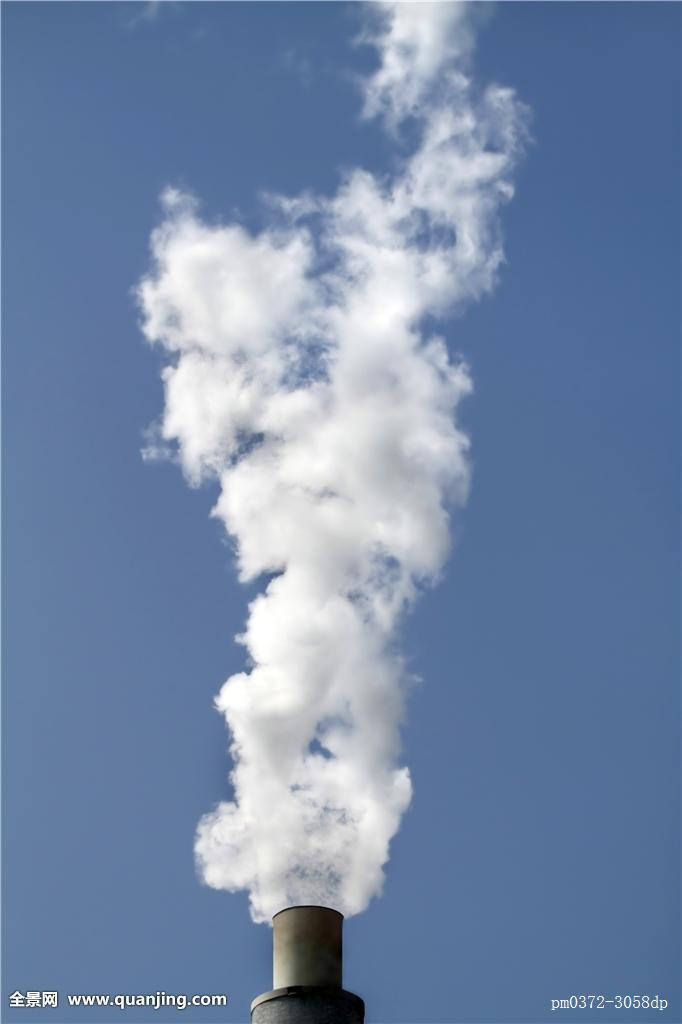dust: (110, 228, 544, 949)
